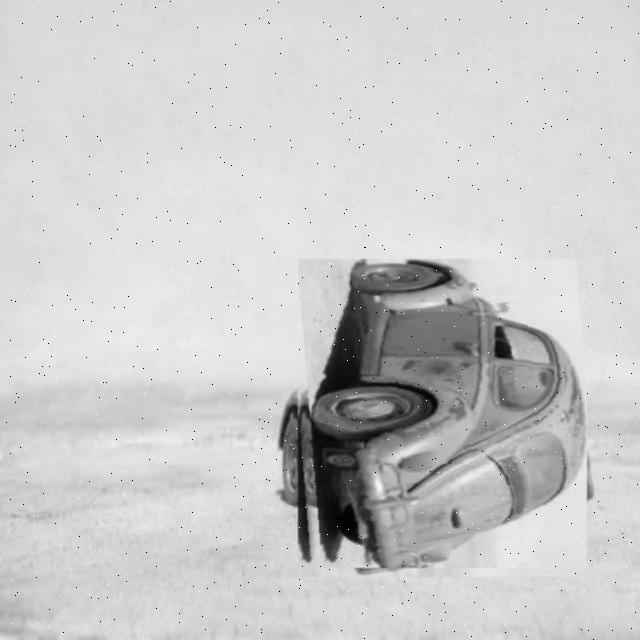car: (288, 269, 588, 569)
